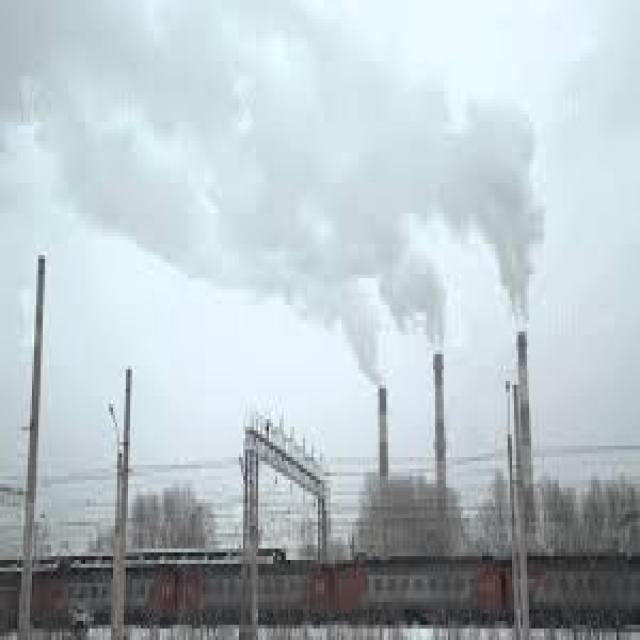Smoke: (0, 0, 547, 391)
